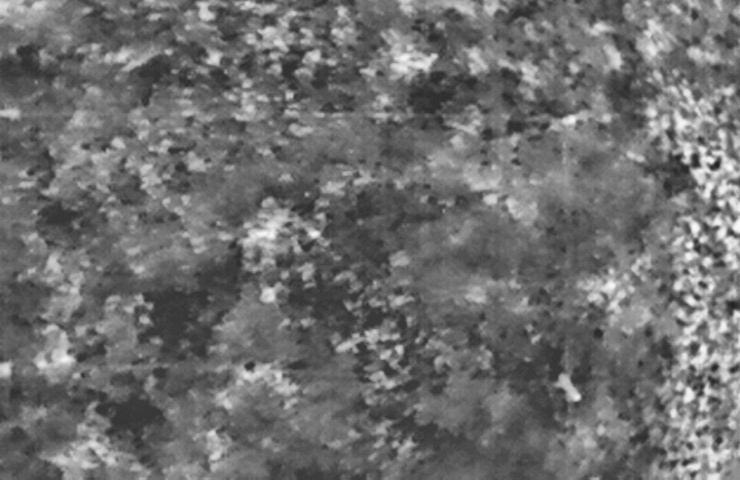landmines: (236, 201, 307, 267)
